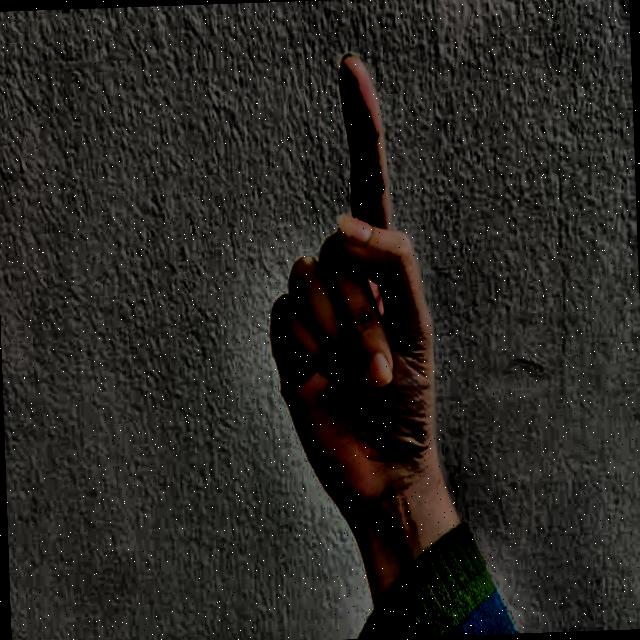U: (235, 29, 457, 523)
